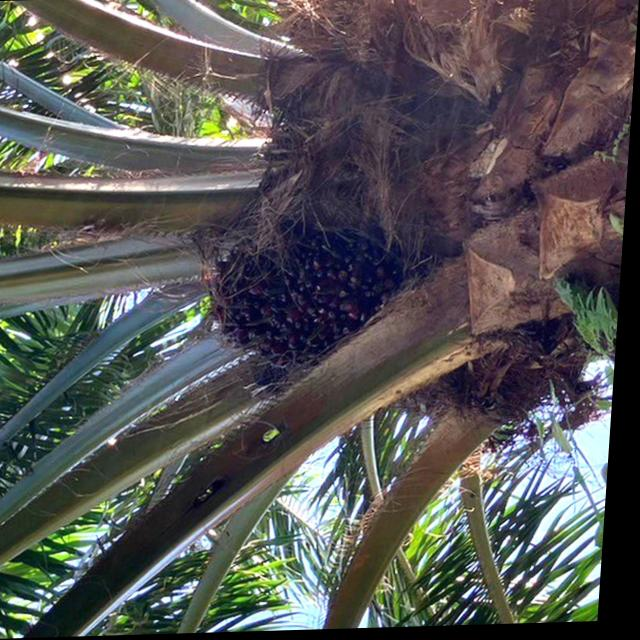ripe: (198, 211, 431, 382)
